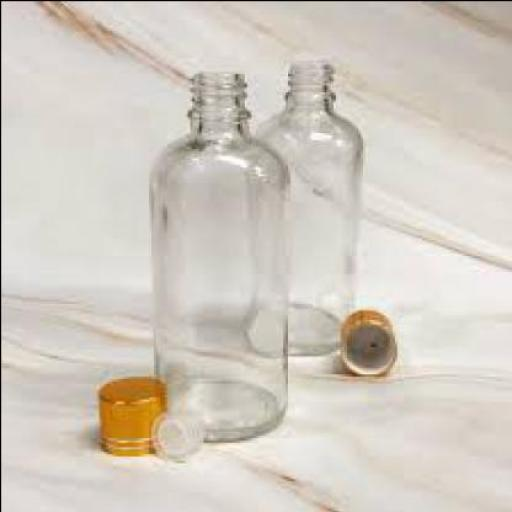glass: (155, 70, 289, 437), (248, 60, 364, 352)
metal: (100, 373, 168, 450)
plastic: (342, 305, 398, 371), (154, 407, 210, 453)
